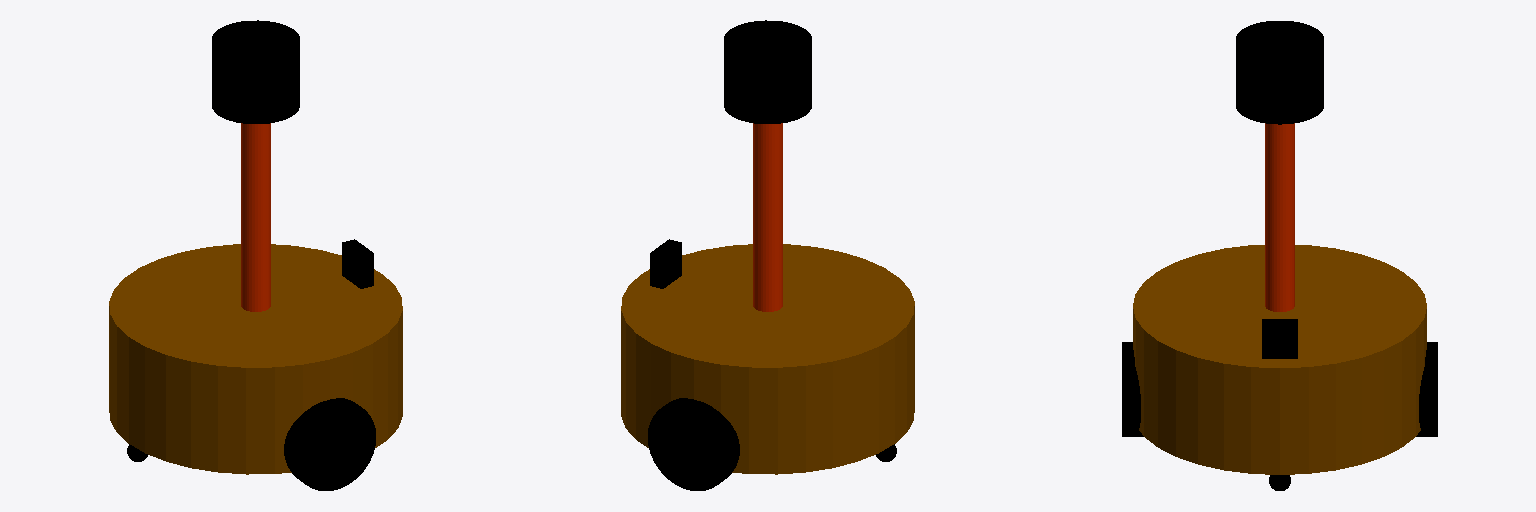
robot.urdf — include_test:
<?xml version="1.0" ?>
<!-- =================================================================================== -->
<!-- |    This document was autogenerated by xacro from include.xacro                  | -->
<!-- |    EDITING THIS FILE BY HAND IS NOT RECOMMENDED                                 | -->
<!-- =================================================================================== -->
<robot name="include_test">
  <!-- 宏:黑色设置 -->
  <material name="black">
    <color rgba="0.0 0.0 0.0 1.0"/>
  </material>
  <!-- 离地间距 -->
  <!-- 底盘 -->
  <link name="base_footprint">
    <visual>
      <geometry>
        <sphere radius="0.001"/>
      </geometry>
    </visual>
  </link>
  <link name="base_link">
    <visual>
      <geometry>
        <cylinder length="0.08" radius="0.1"/>
      </geometry>
      <origin rpy="0 0 0" xyz="0 0 0"/>
      <material name="yellow">
        <color rgba="0.5 0.3 0.0 0.5"/>
      </material>
    </visual>
  </link>
  <joint name="base_link2base_footprint" type="fixed">
    <parent link="base_footprint"/>
    <child link="base_link"/>
    <origin xyz="0 0 0.055"/>
  </joint>
  <link name="left_wheel">
    <visual>
      <geometry>
        <cylinder length="0.015" radius="0.0325"/>
      </geometry>
      <origin rpy="1.5705 0.0 0.0" xyz="0.0 0.0 0.0"/>
      <material name="black"/>
    </visual>
  </link>
  <joint name="left_wheel2base_link" type="continuous">
    <parent link="base_link"/>
    <child link="left_wheel"/>
    <origin xyz="0 0.1 -0.0225"/>
    <axis xyz="0 1 0"/>
  </joint>
  <link name="right_wheel">
    <visual>
      <geometry>
        <cylinder length="0.015" radius="0.0325"/>
      </geometry>
      <origin rpy="1.5705 0.0 0.0" xyz="0.0 0.0 0.0"/>
      <material name="black"/>
    </visual>
  </link>
  <joint name="right_wheel2base_link" type="continuous">
    <parent link="base_link"/>
    <child link="right_wheel"/>
    <origin xyz="0 -0.1 -0.0225"/>
    <axis xyz="0 1 0"/>
  </joint>
  <!-- 支撑轮半径 -->
  <link name="front_wheel">
    <visual>
      <geometry>
        <sphere radius="0.0075"/>
      </geometry>
      <origin rpy="0 0 0" xyz="0 0 0"/>
      <material name="black"/>
    </visual>
  </link>
  <joint name="front_wheel2base_link" type="continuous">
    <parent link="base_link"/>
    <child link="front_wheel"/>
    <origin xyz="0.0925 0 -0.0475"/>
    <axis xyz="0 1 0"/>  <!-- Fix axis to be along one direction -->
  </joint>

  <link name="back_wheel">
    <visual>
      <geometry>
        <sphere radius="0.0075"/>
      </geometry>
      <origin rpy="0 0 0" xyz="0 0 0"/>
      <material name="black"/>
    </visual>
  </link>
  <joint name="back_wheel2base_link" type="continuous">
    <parent link="base_link"/>
    <child link="back_wheel"/>
    <origin xyz="-0.0925 0 -0.0475"/>
    <axis xyz="1 1 1"/>
  </joint>
  <!-- 摄像头安装的z坐标:底盘高度 / 2 + 摄像头高度 / 2  -->
  <!-- 摄像头关节以及link -->
  <link name="camera">
    <visual>
      <geometry>
        <box size="0.01 0.025 0.025"/>
      </geometry>
      <origin rpy="0.0 0.0 0.0" xyz="0.0 0.0 0.0"/>
      <material name="black"/>
    </visual>
  </link>
  <joint name="camera2base_link" type="revolute">
    <parent link="base_link"/>
    <child link="camera"/>
    <origin xyz="0.08 0.0 0.0525"/>
    <axis xyz="0 0 1"/>
  <limit lower="-1.57" upper="1.57" effort="1.0" velocity="1.0"/>  <!-- Add limits here -->
</joint>

  <!-- 支架安装的z坐标:底盘高度 / 2 + 支架高度 / 2  -->
  <link name="support">
    <visual>
      <geometry>
        <cylinder length="0.15" radius="0.01"/>
      </geometry>
      <origin rpy="0.0 0.0 0.0" xyz="0.0 0.0 0.0"/>
      <material name="red">
        <color rgba="0.8 0.2 0.0 0.8"/>
      </material>
    </visual>
  </link>
  <joint name="support2base_link" type="fixed">
    <parent link="base_link"/>
    <child link="support"/>
    <origin xyz="0.0 0.0 0.11499999999999999"/>
  </joint>
  <!-- 雷达安装的z坐标:支架高度 / 2 + 雷达高度 / 2  -->
  <!-- 雷达关节以及link -->
  <link name="laser">
    <visual>
      <geometry>
        <cylinder length="0.05" radius="0.03"/>
      </geometry>
      <origin rpy="0.0 0.0 0.0" xyz="0.0 0.0 0.0"/>
      <material name="black"/>
    </visual>
  </link>
  <joint name="laser2support" type="fixed">
    <parent link="support"/>
    <child link="laser"/>
    <origin xyz="0.0 0.0 0.1"/>
  </joint>
</robot>

--- Render facts (derived) ---
3 views of the same robot in one strip: view 1: azimuth 30°, elevation 25°; view 2: azimuth 150°, elevation 25°; view 3: azimuth 270°, elevation 25° (orthographic).
Robot: include_test — 9 links, 8 joints (1 revolute, 4 continuous, 3 fixed); root link base_footprint; default pose: every joint at zero.
Visible links, largest first — view 1: base_link, laser, right_wheel, support, camera; view 2: base_link, laser, left_wheel, support, camera; view 3: base_link, laser, support, left_wheel, right_wheel, camera.
Link boxes in pixels (x1,y1,x2,y2): base_link: [109, 244, 402, 474]; laser: [212, 20, 299, 123]; right_wheel: [284, 398, 375, 490]; support: [241, 123, 270, 311]; camera: [342, 239, 373, 288]; base_link: [621, 244, 914, 474]; laser: [724, 20, 811, 123]; left_wheel: [648, 398, 739, 490]; support: [753, 123, 782, 311]; camera: [650, 239, 681, 288]; base_link: [1133, 245, 1426, 474]; laser: [1236, 21, 1323, 124]; support: [1265, 123, 1294, 311]; left_wheel: [1416, 342, 1437, 436]; right_wheel: [1122, 342, 1143, 436]; camera: [1262, 319, 1297, 358].
Bounding box of the posed robot: 0.2 × 0.215 × 0.296 m (x, y, z).
Geometry: primitives only (box / cylinder / sphere), no mesh files.
